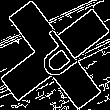P_SE: (25, 24, 85, 86)
